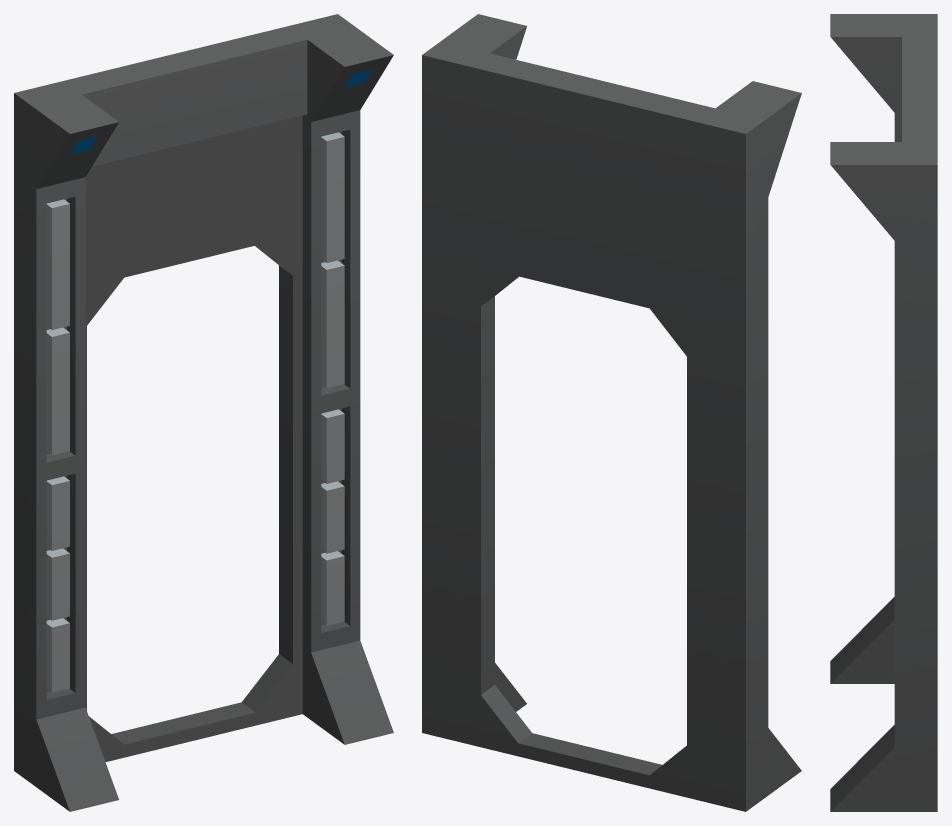
Rendered from Wall_type_B_050.fbx.
The picture shows the model from 3 angles, left to right: view 1: azimuth 30°, elevation 25°; view 2: azimuth 150°, elevation 25°; view 3: azimuth 270°, elevation 25°; orthographic projection. The views are drawn at different scales.
Visible parts, largest first — view 1: Wall_type_B_050; view 2: Wall_type_B_050; view 3: Wall_type_B_050.
Boxes of the visible parts, left/top/right/bottom form: Wall_type_B_050: left=14, top=14, right=393, bottom=811; Wall_type_B_050: left=422, top=14, right=801, bottom=811; Wall_type_B_050: left=830, top=14, right=937, bottom=811.
Size of the model in its own units: 200 by 60 by 400.
